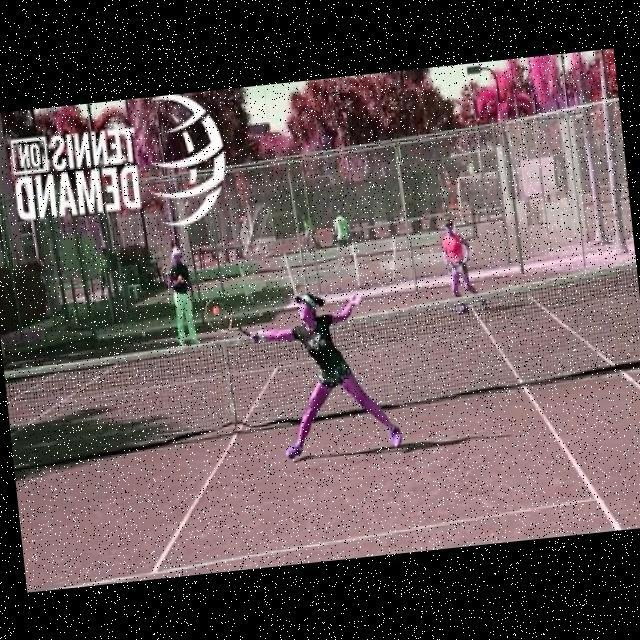court: (3, 303, 640, 640)
net: (0, 248, 640, 471)
player: (196, 252, 406, 476)
